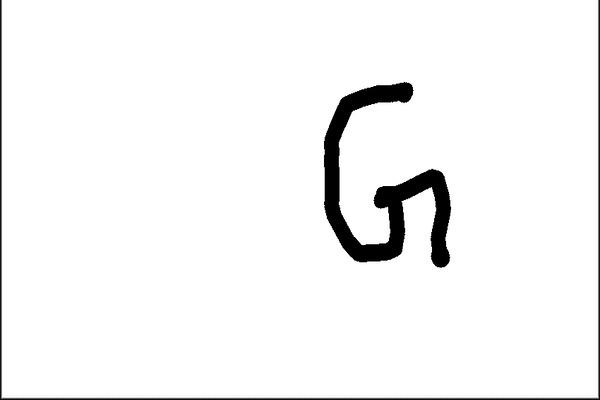G: (317, 78, 462, 270)
